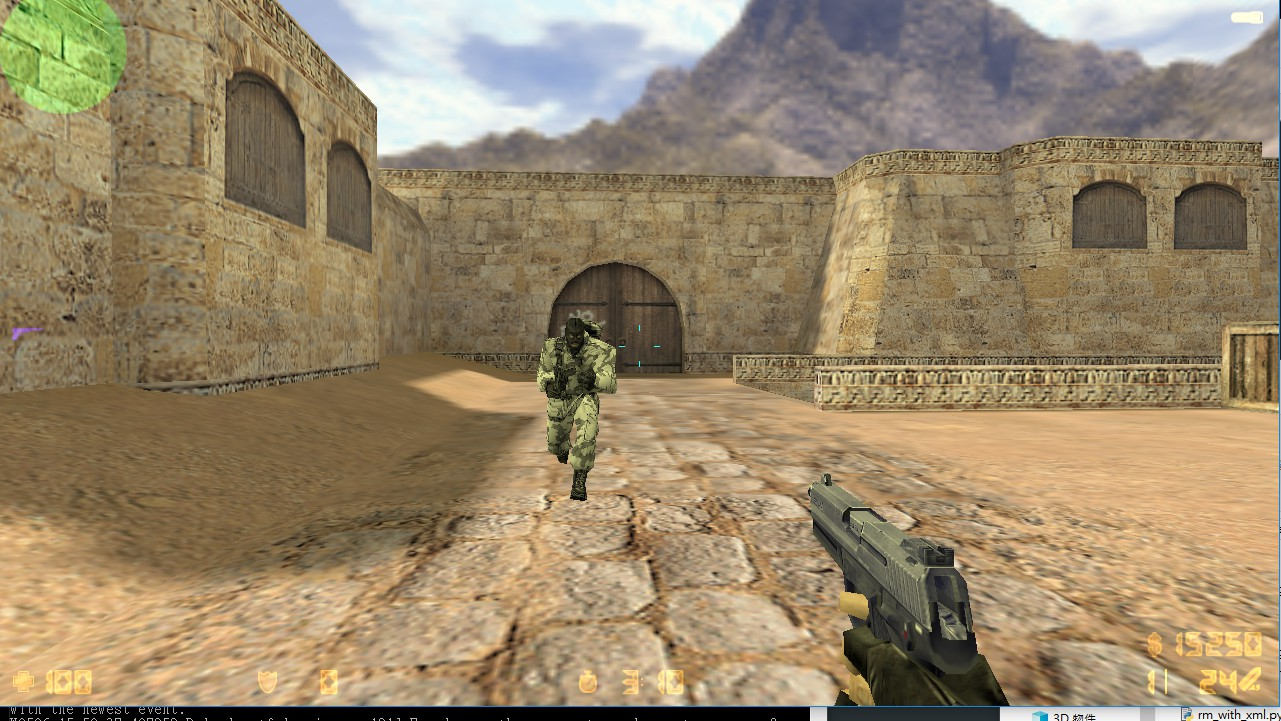person: (531, 313, 610, 506)
